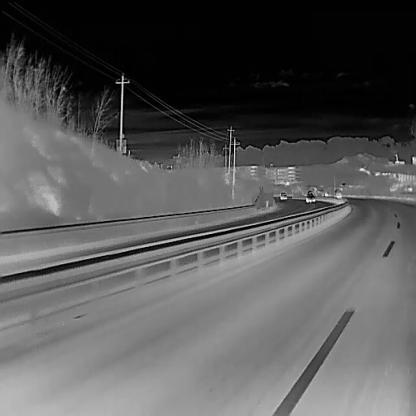car: (304, 192, 315, 204), (333, 188, 342, 198), (279, 192, 287, 201), (321, 189, 329, 196)
